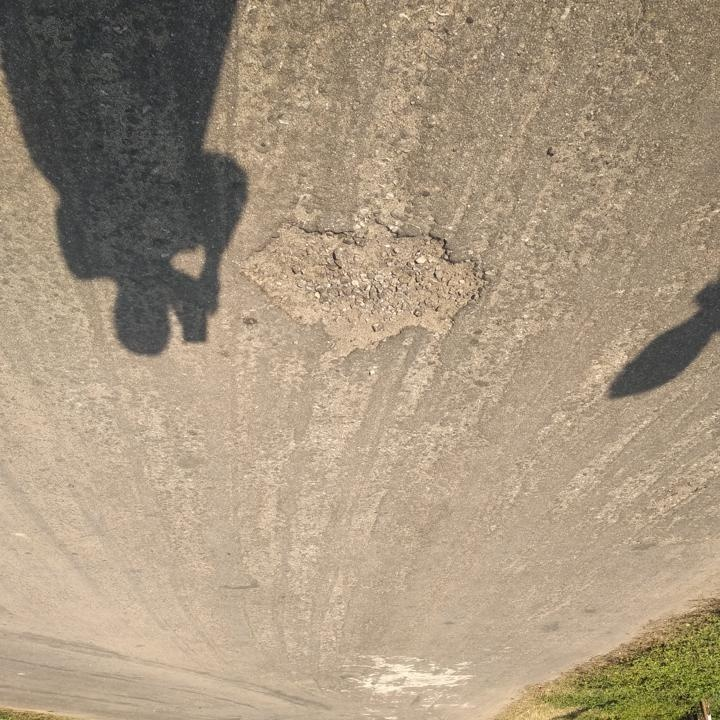pothole: (232, 216, 492, 364)
